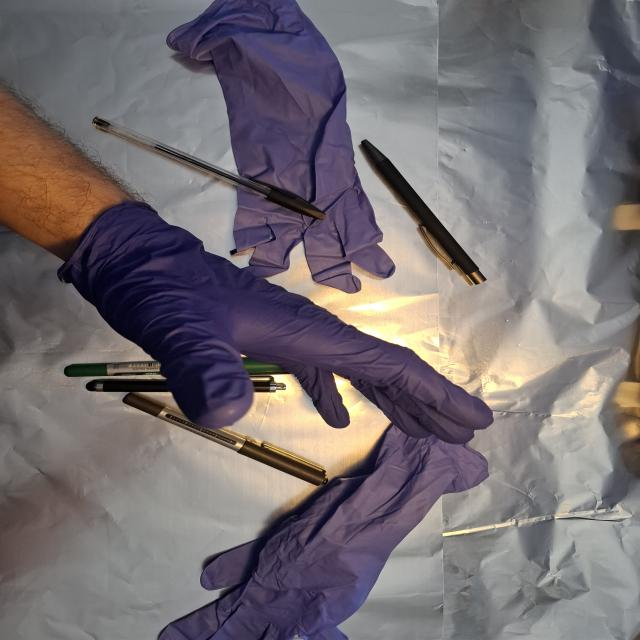glove_on: (59, 201, 496, 448)
